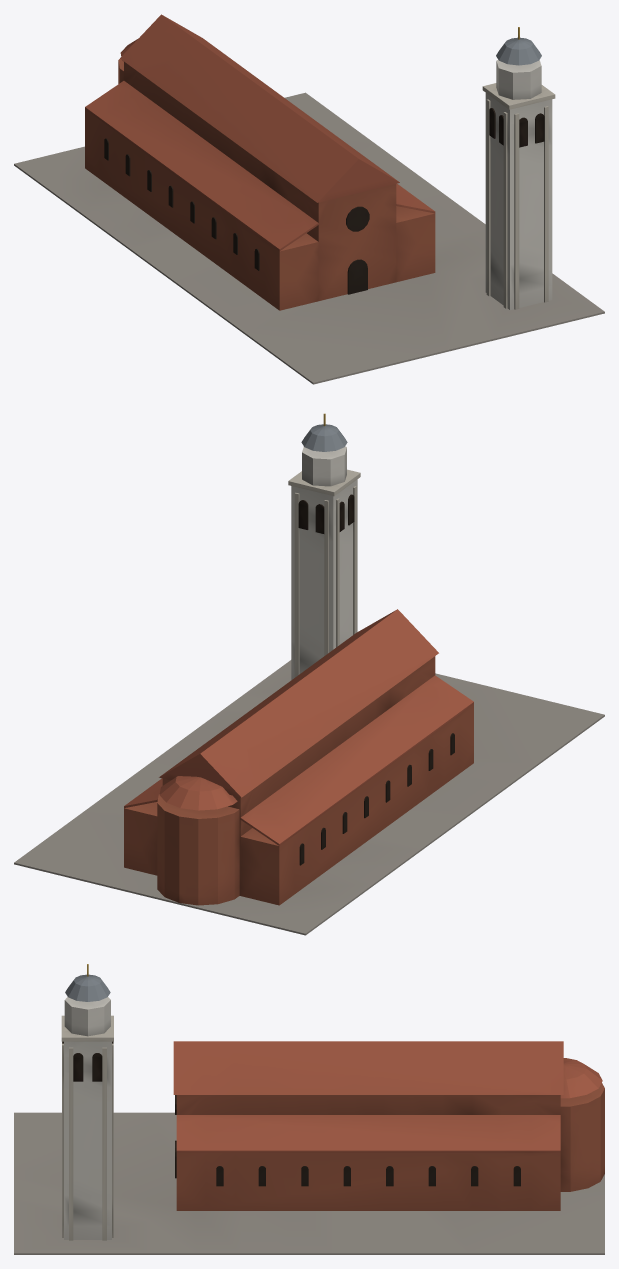
The model's file is san-pietro-1580.glb.
3 views of the same model, one above another, from view 1: azimuth 30°, elevation 25°; view 2: azimuth 150°, elevation 25°; view 3: azimuth 270°, elevation 25° (orthographic).
Visible parts, largest first — view 1: p0_walls, p1_roofs, p2_campanile; view 2: p0_walls, p1_roofs, p2_campanile; view 3: p0_walls, p1_roofs, p2_campanile.
Boxes of the visible parts, x1,y1,x2,y2 form: p0_walls: (14, 59, 604, 384); p1_roofs: (85, 14, 435, 251); p2_campanile: (482, 27, 555, 310); p0_walls: (14, 656, 604, 935); p1_roofs: (124, 609, 473, 845); p2_campanile: (288, 413, 360, 679); p0_walls: (14, 1083, 604, 1254); p1_roofs: (173, 1041, 602, 1152); p2_campanile: (61, 964, 113, 1240).
Bounding box in the file's own units: 45 × 39.9 × 80.
